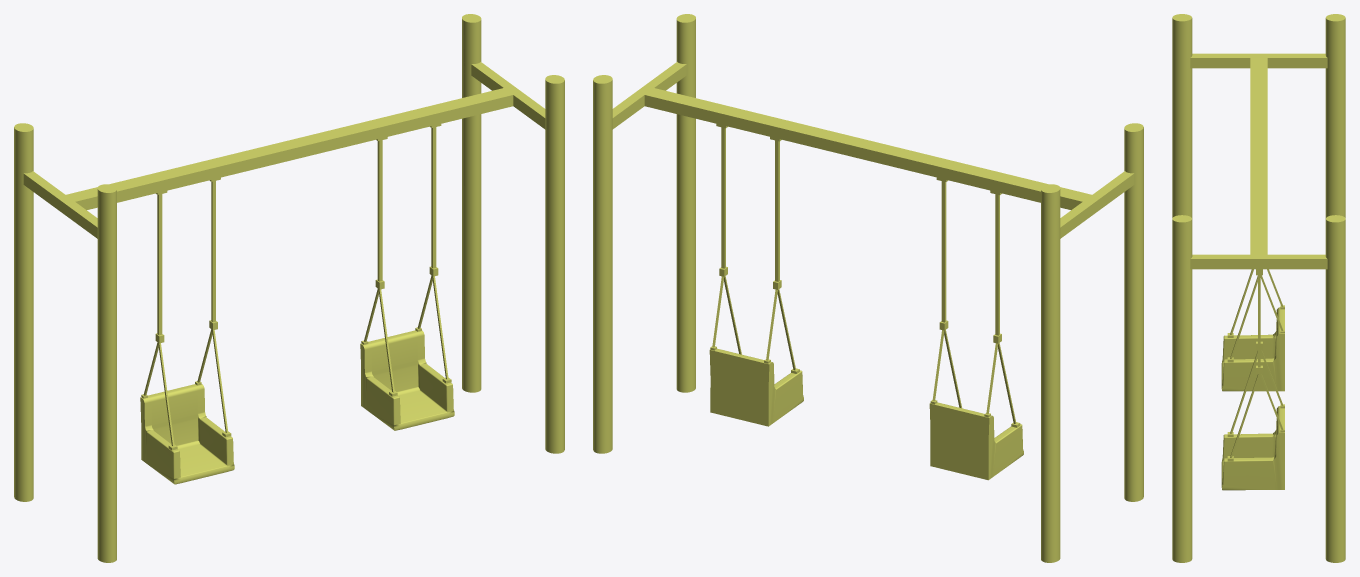
The model's file is swing.fbx.
3 renders of one model, left to right at view 1: azimuth 30°, elevation 25°; view 2: azimuth 150°, elevation 25°; view 3: azimuth 270°, elevation 25°, orthographic. The views are drawn at different scales.
Visible parts, largest first — view 1: swing; view 2: swing; view 3: swing.
Boxes of the visible parts, x1,y1,x2,y2 form: swing: (14,14,564,562); swing: (593,14,1143,562); swing: (1172,14,1345,562).
Size of the model in its own units: 346 by 264 by 122.
